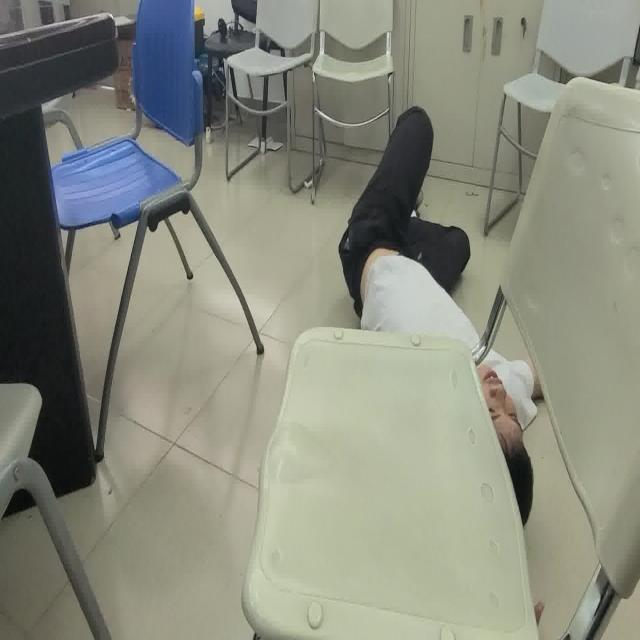Fall-Detected: (337, 103, 549, 633)
